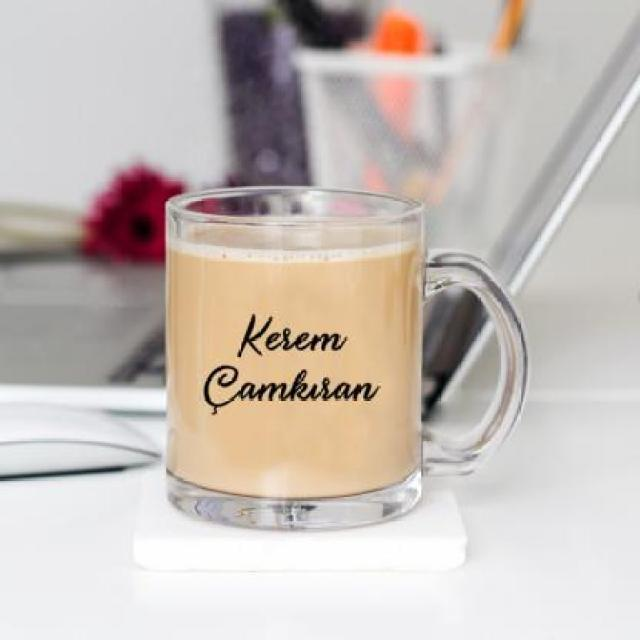taza: (158, 183, 528, 530)
